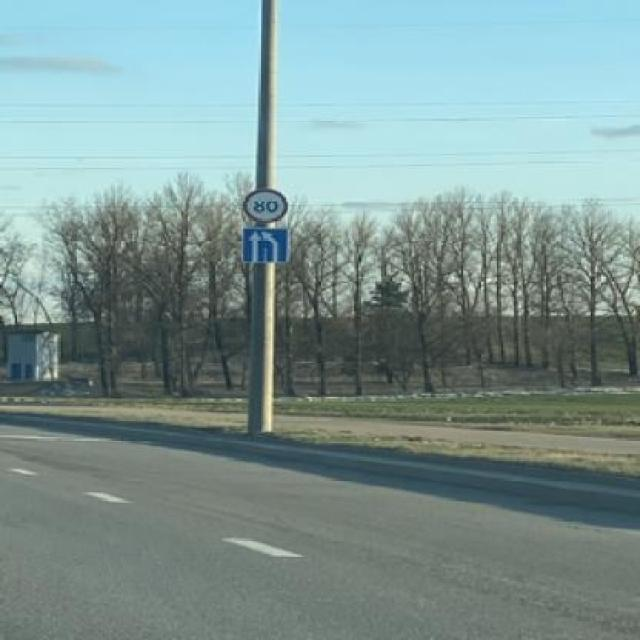forb_speed_over_80: (244, 185, 287, 224)
